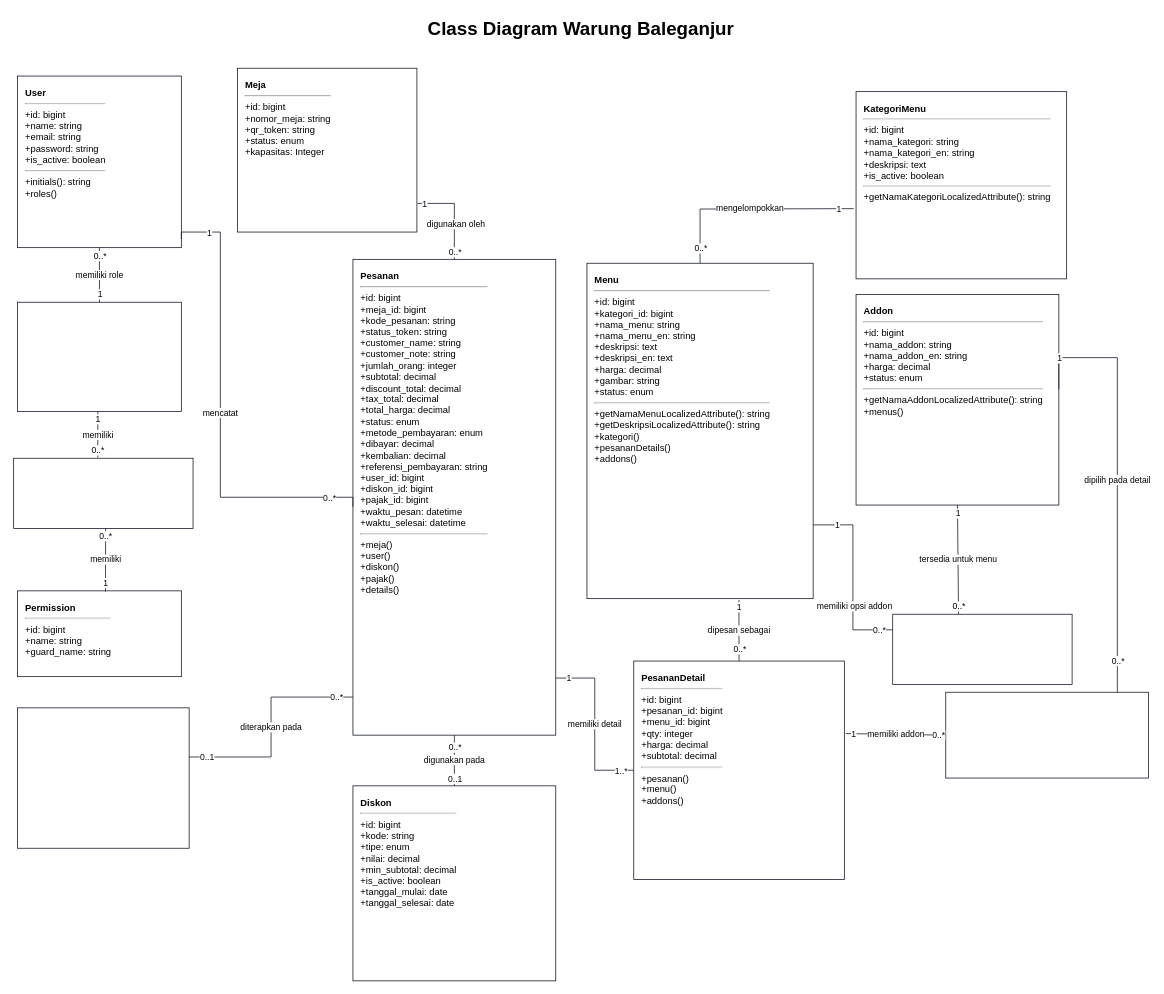
This 1164x994 diagram has some shape labels left out. The box of each missing label's shape, as (x1, y1, x2, y2) in pixels:
AddonMenu +menu_id: bigint +addon_id: bigint: (892, 613, 1072, 684)
Pajak +id: bigint +nama: string +persentase: decimal +is_active: boolean: (17, 707, 189, 848)
PesananDetailAddon +pesanan_detail_id: bigint +addon_id: bigint +harga: decimal: (945, 691, 1149, 778)
Role +id: bigint +name: string +guard_name: string: (17, 301, 181, 411)
RoleHasPermission +permission_id: bigint +role_id: bigint: (13, 457, 193, 528)
